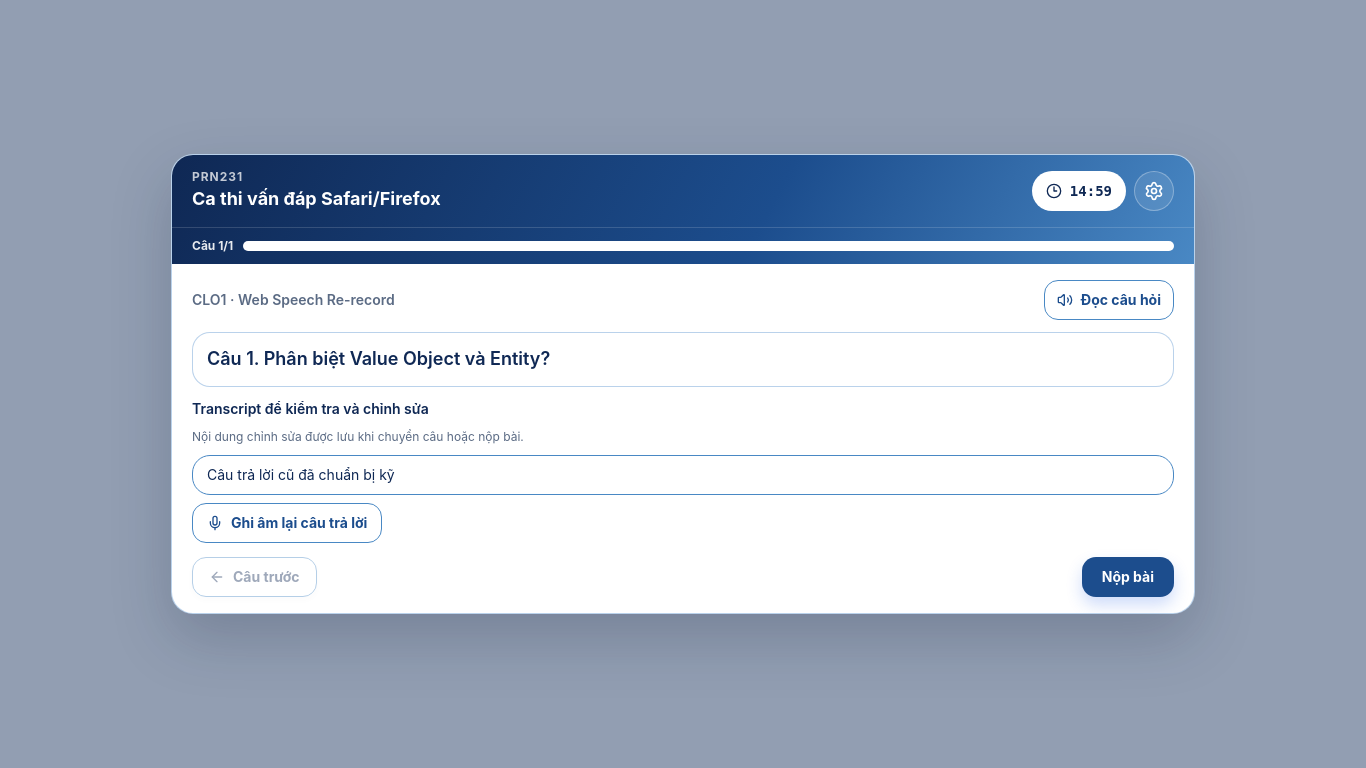
Scenario: InClassExamSessionPage M2 cross-device fallback & question images › preserves existing draft on empty Web Speech re-record
The image size is (1366, 768).
Click the button "Ghi âm lại câu trả lời" at (287, 523), box x1=192 y1=503 x2=382 y2=543
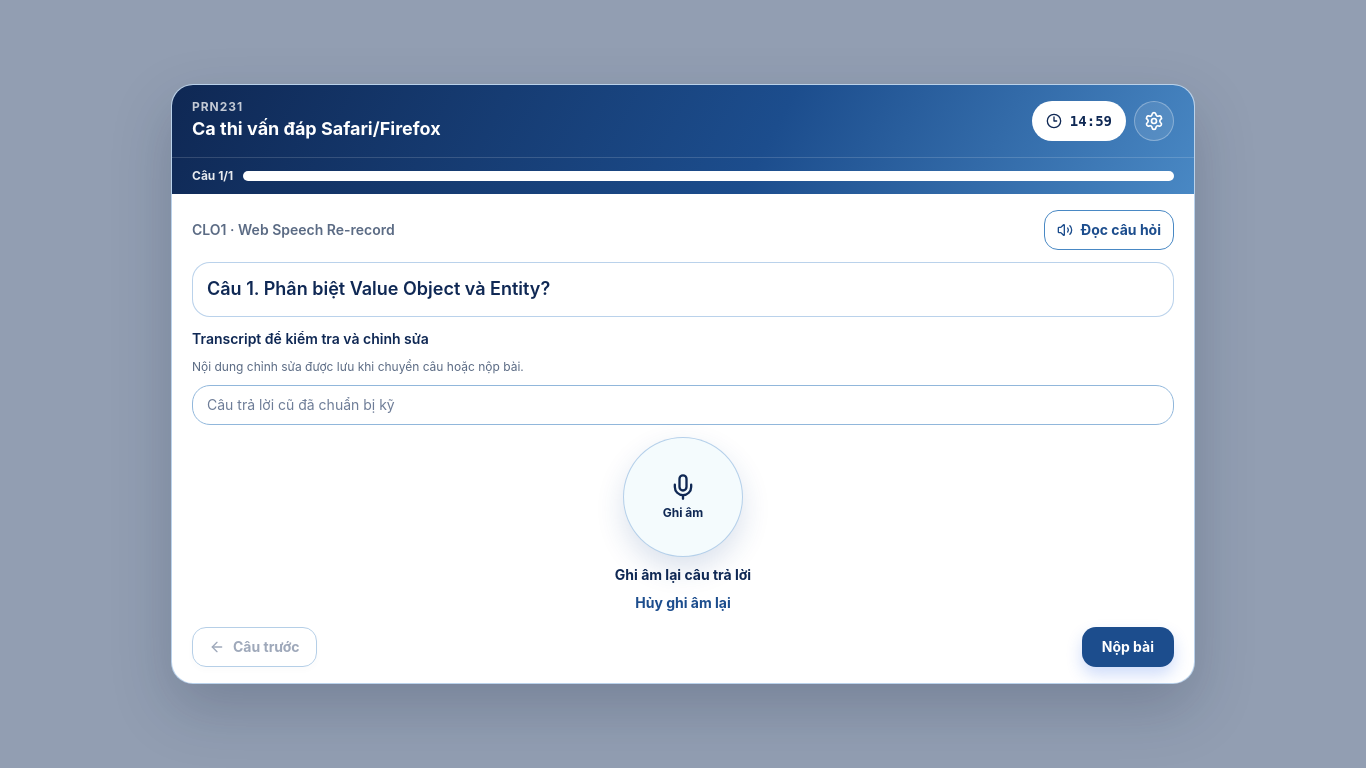
Click the button with aria-label "Bắt đầu ghi âm" at (683, 497), box x1=623 y1=437 x2=743 y2=557
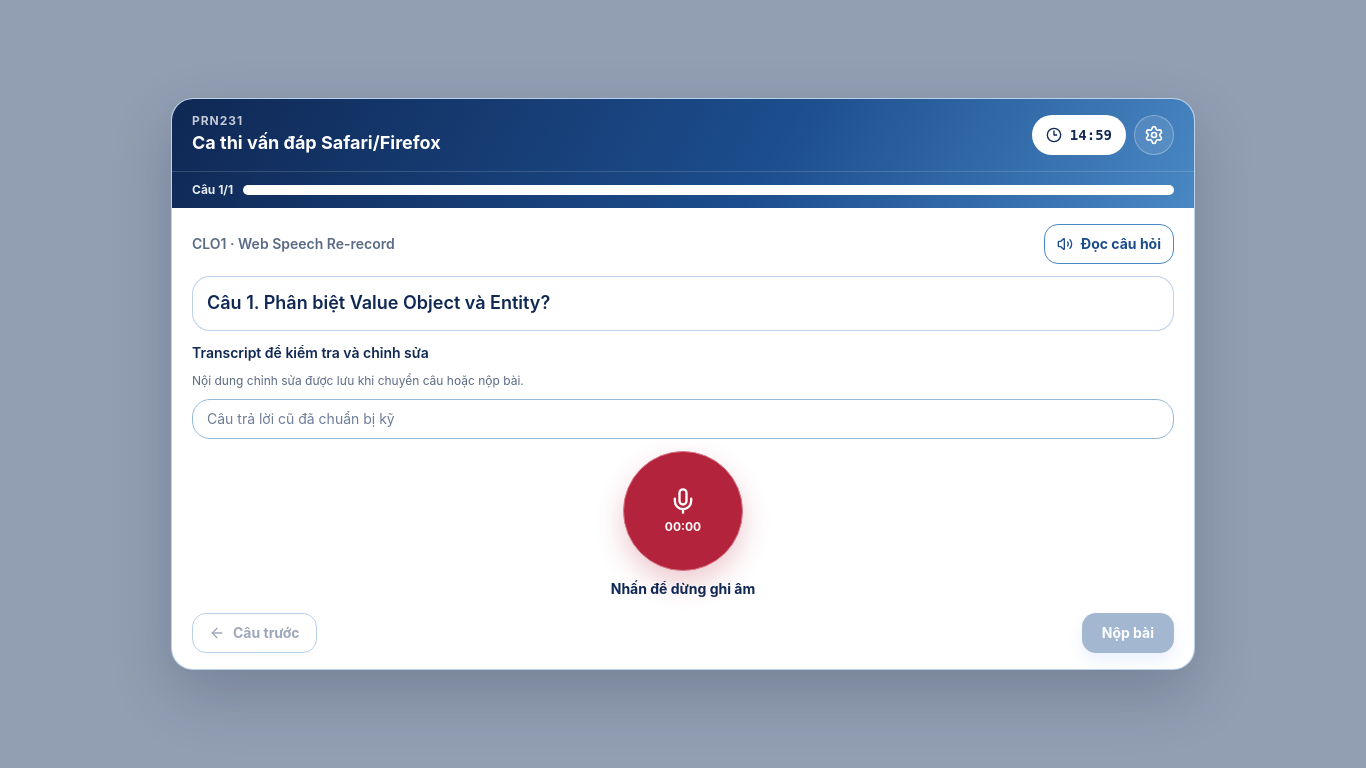
Click the button named "Dừng ghi âm" at (683, 511), box x1=623 y1=451 x2=743 y2=571
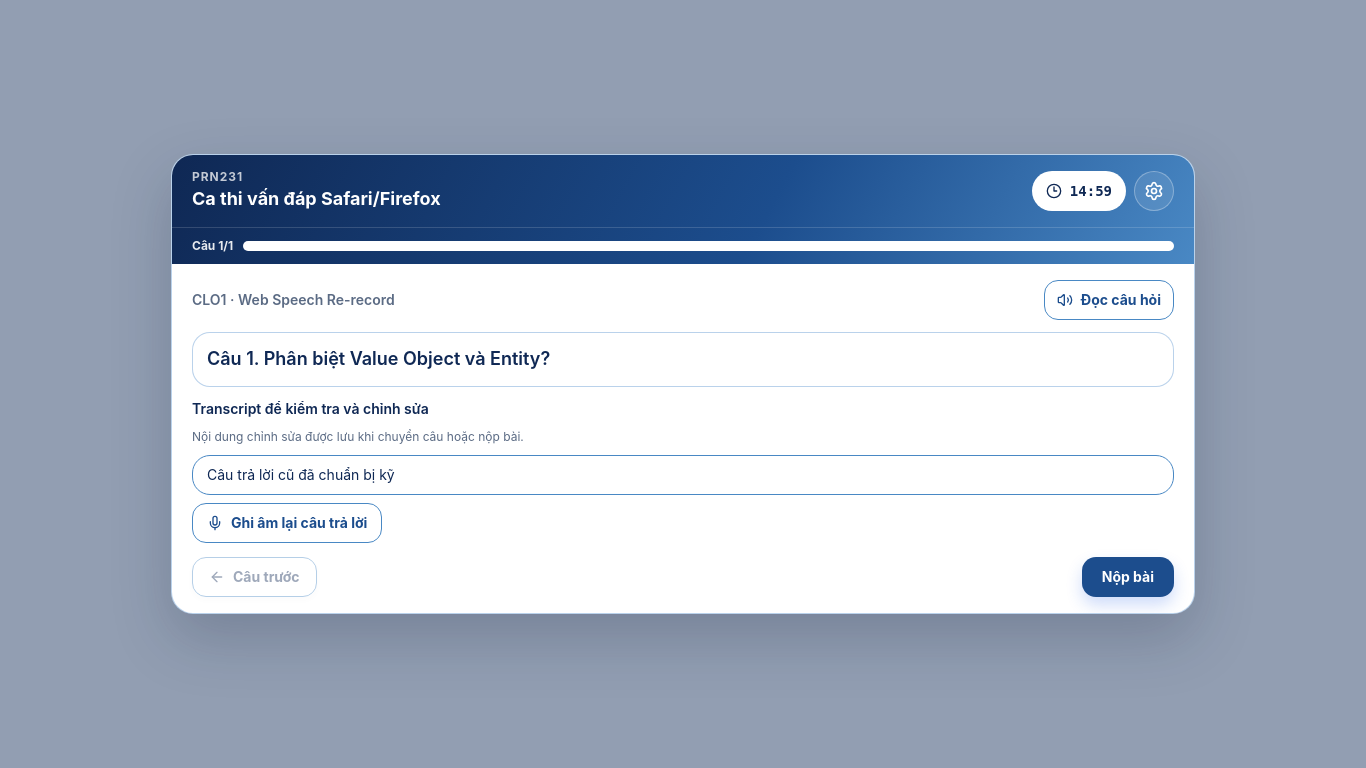
Expected: the text box labelled "Transcript để kiểm tra và chỉnh sửa" holds "Câu trả lời cũ đã chuẩn bị kỹ", x1=192 y1=455 x2=1174 y2=495
Result: the text box labelled "Transcript để kiểm tra và chỉnh sửa" is enabled at x1=192 y1=455 x2=1174 y2=495
